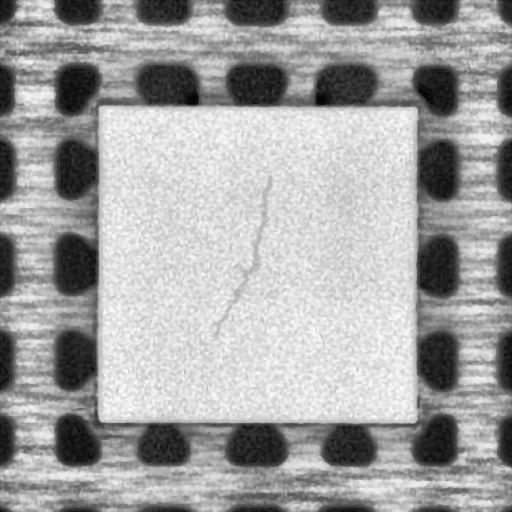DIE_CRACK: (212, 174, 270, 339)
